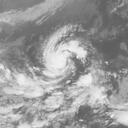cyclone: (41, 24, 88, 79)
